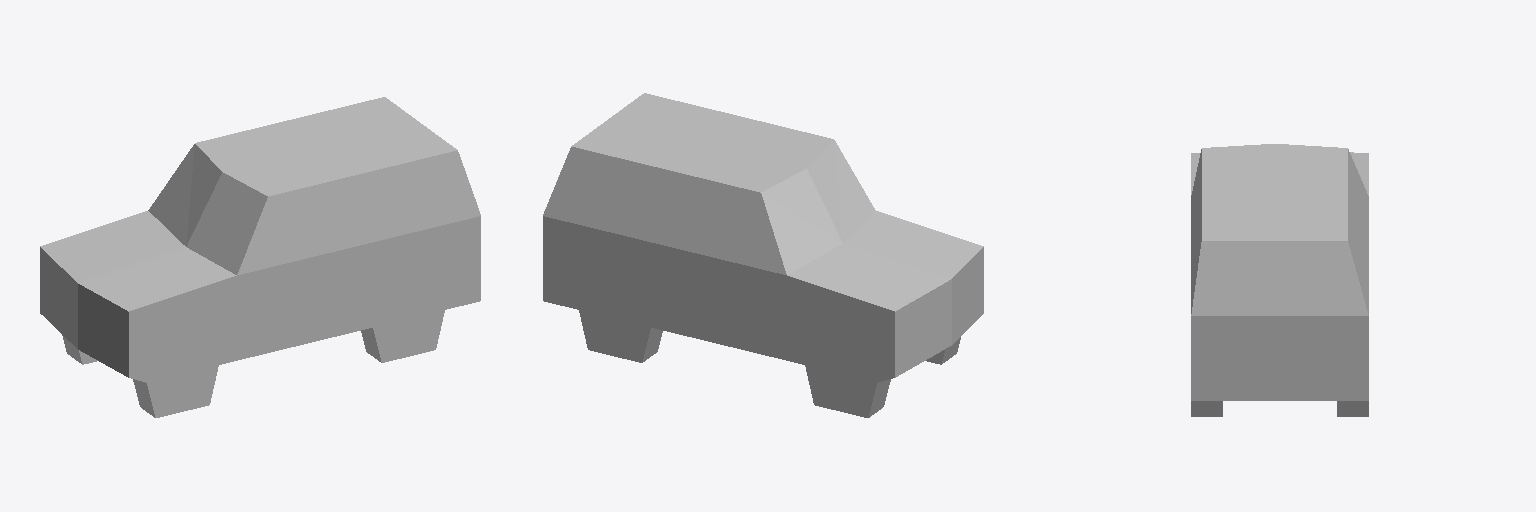
The model's file is uaz.obj.
3 views of the same model, side by side, from view 1: azimuth 30°, elevation 25°; view 2: azimuth 150°, elevation 25°; view 3: azimuth 270°, elevation 25° (orthographic).
Bounding box in the file's own units: 4 × 2 × 1.7.